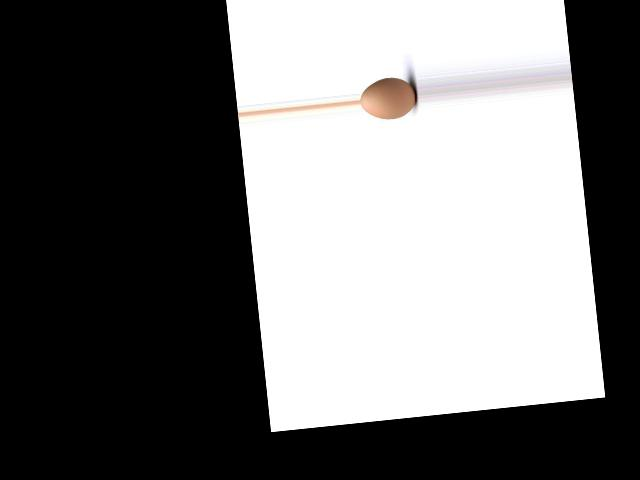egg: (359, 75, 418, 122)
